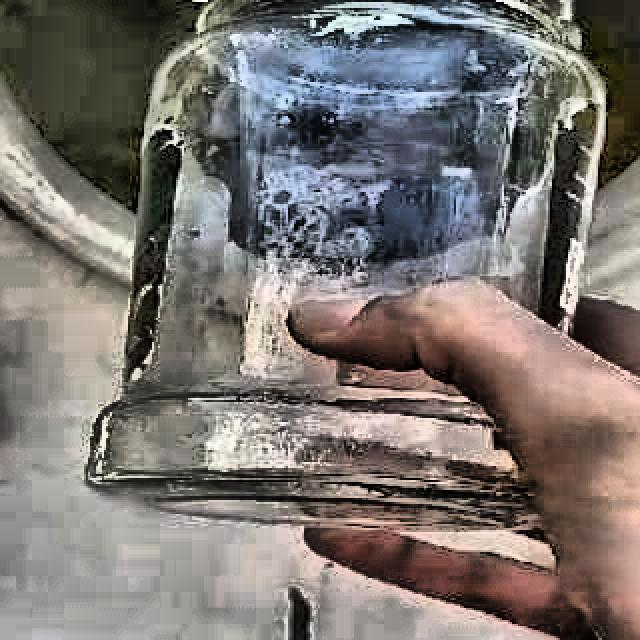glass: (87, 0, 604, 528)
